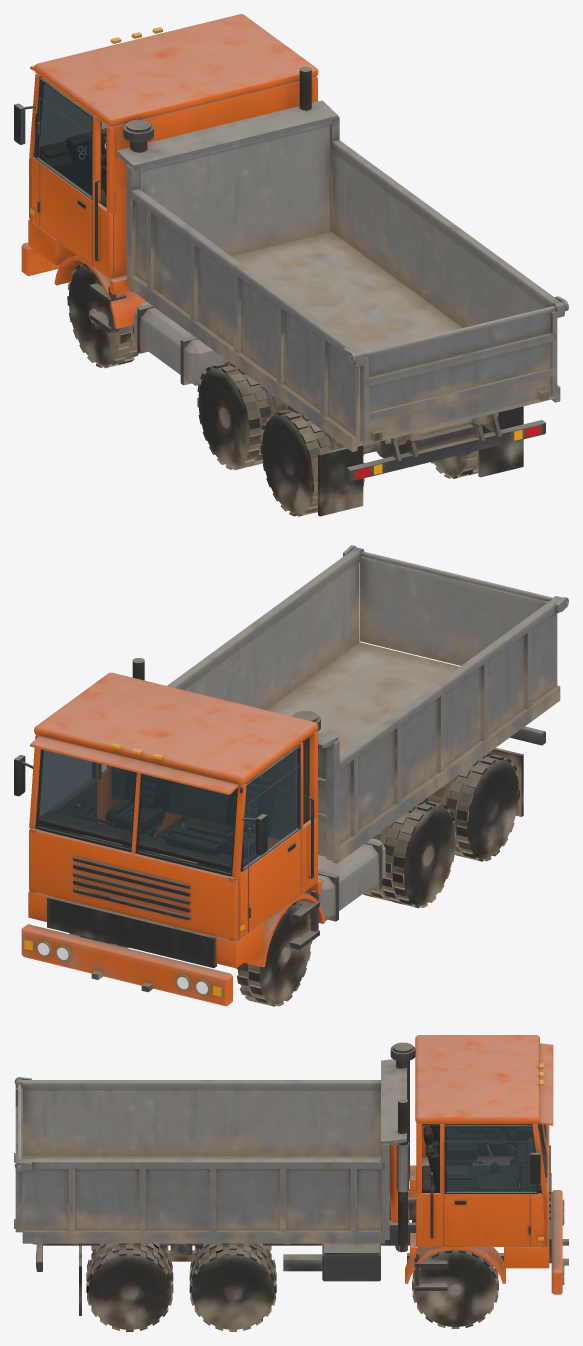
Rendered from dump-truck.glb.
The picture shows the model from 3 angles, top to bottom: view 1: azimuth 30°, elevation 25°; view 2: azimuth 150°, elevation 25°; view 3: azimuth 270°, elevation 25°; orthographic projection. The views are drawn at different scales.
Parts seen in each view (by area): view 1: Bed, Cab, Tailgate, Chassis, Wheel_RL1, Wheel_RL2, Glass, Wheel_FL, CabInterior, Wheel_RR2; view 2: Cab, Bed, Chassis, Glass, Tailgate, CabInterior, Wheel_RL1, Wheel_RL2, Seats, Wheel_FL; view 3: Bed, Cab, Chassis, Wheel_RR1, Wheel_RR2, Glass, Wheel_FR, CabInterior, Seats, Tailgate, TipCyl_Barrel.
Part boxes in pixels (box(x1,y1,x2,y2)): Bed: box(117, 100, 568, 451); Cab: box(14, 14, 318, 333); Tailgate: box(348, 301, 564, 443); Chassis: box(21, 66, 545, 516); Wheel_RL1: box(197, 362, 292, 470); Wheel_RL2: box(260, 408, 364, 516); Glass: box(37, 78, 107, 196); Wheel_FL: box(67, 263, 138, 368); CabInterior: box(34, 76, 106, 207); Wheel_RR2: box(431, 450, 478, 478); Cab: box(14, 672, 325, 968); Bed: box(167, 545, 568, 863); Chassis: box(21, 658, 545, 1006); Glass: box(36, 737, 297, 873); Tailgate: box(352, 547, 567, 684); CabInterior: box(38, 737, 310, 875); Wheel_RL1: box(363, 800, 456, 908); Wheel_RL2: box(425, 753, 519, 861); Seats: box(106, 768, 274, 863); Wheel_FL: box(236, 902, 312, 1006); Bed: box(14, 1059, 406, 1244); Cab: box(405, 1035, 553, 1290); Chassis: box(33, 1042, 568, 1315); Wheel_RR1: box(189, 1243, 276, 1331); Wheel_RR2: box(86, 1243, 173, 1331); Glass: box(446, 1124, 543, 1191); Wheel_FR: box(412, 1249, 498, 1328); CabInterior: box(422, 1124, 545, 1193); Seats: box(423, 1125, 481, 1192); Tailgate: box(14, 1079, 22, 1232); TipCyl_Barrel: box(389, 1144, 409, 1222).
Bounding box in the file's own units: 2.97 × 3.15 × 7.09.
2 materials, 1 textured.
